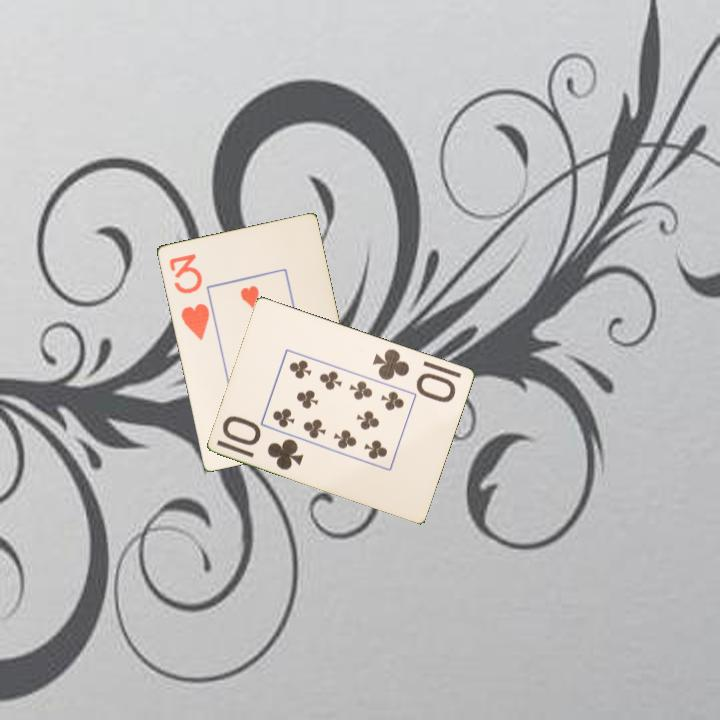10c: (369, 345, 459, 405), (219, 414, 307, 473)
3h: (165, 250, 212, 343)
